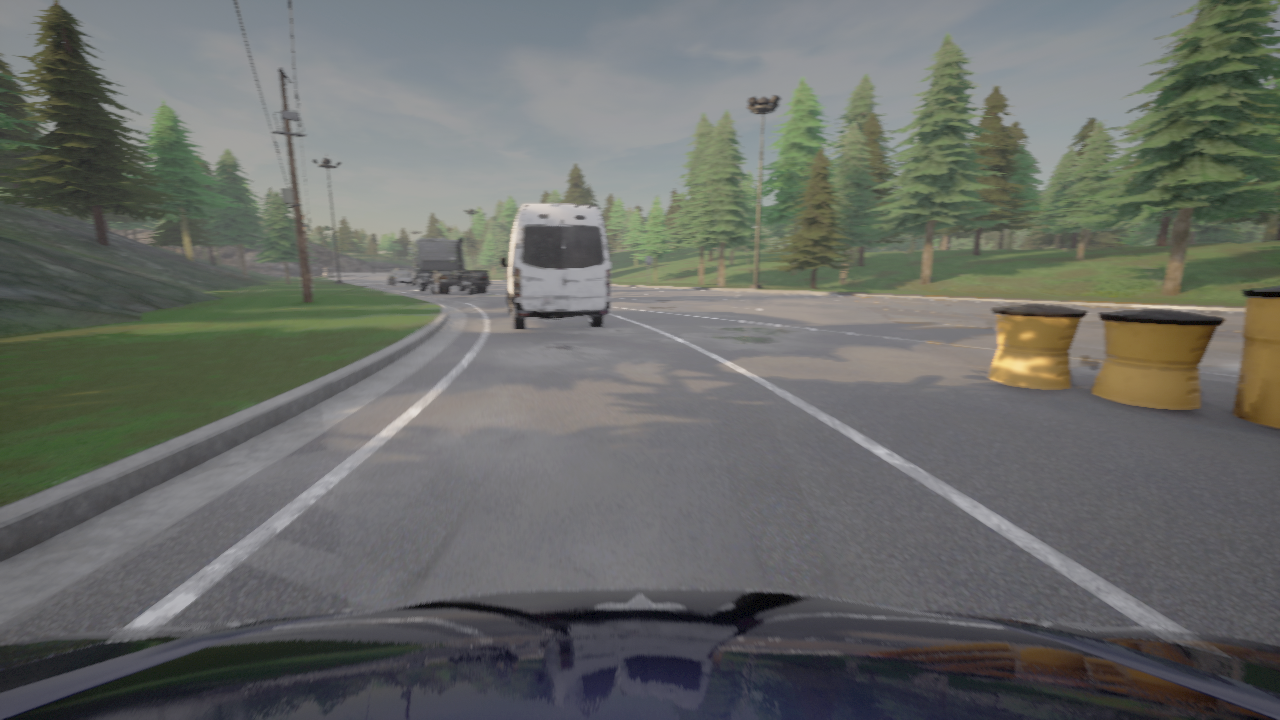cyclist: (0, 588, 1279, 719), (500, 203, 610, 329), (408, 237, 489, 294), (387, 270, 413, 286)
